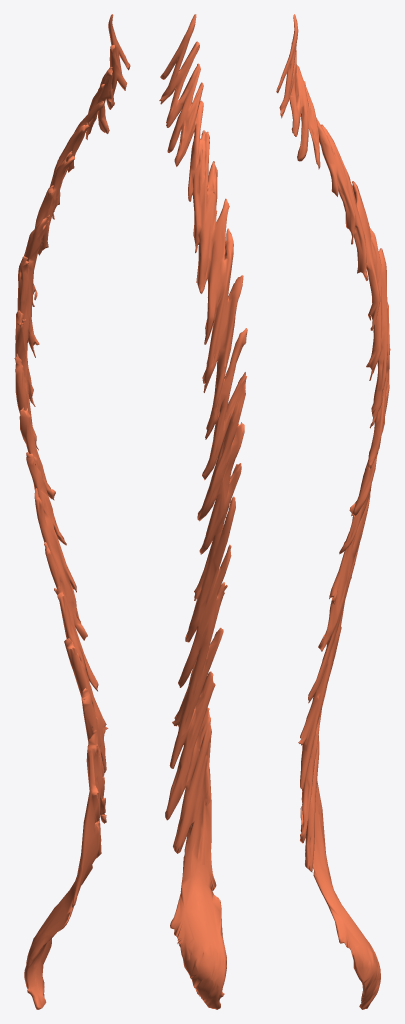
File: Longissimus_thoracis_left.glb
The picture shows the model from 3 angles, left to right: view 1: azimuth 90°, elevation 25°; view 2: azimuth 210°, elevation 25°; view 3: azimuth 270°, elevation 25°; orthographic projection. The views are drawn at different scales.
Parts seen in each view (by area): view 1: Longissimus_thoracis_muscle.l_Generated_Mesh_From_X3D.371; view 2: Longissimus_thoracis_muscle.l_Generated_Mesh_From_X3D.371; view 3: Longissimus_thoracis_muscle.l_Generated_Mesh_From_X3D.371.
Part boxes in pixels (left/top/right/bottom): Longissimus_thoracis_muscle.l_Generated_Mesh_From_X3D.371: left=14, top=14, right=130, bottom=1009; Longissimus_thoracis_muscle.l_Generated_Mesh_From_X3D.371: left=159, top=14, right=247, bottom=1009; Longissimus_thoracis_muscle.l_Generated_Mesh_From_X3D.371: left=276, top=14, right=390, bottom=1009.
Bounding box in the file's own units: 0.0382 × 0.6354 × 0.0666.
